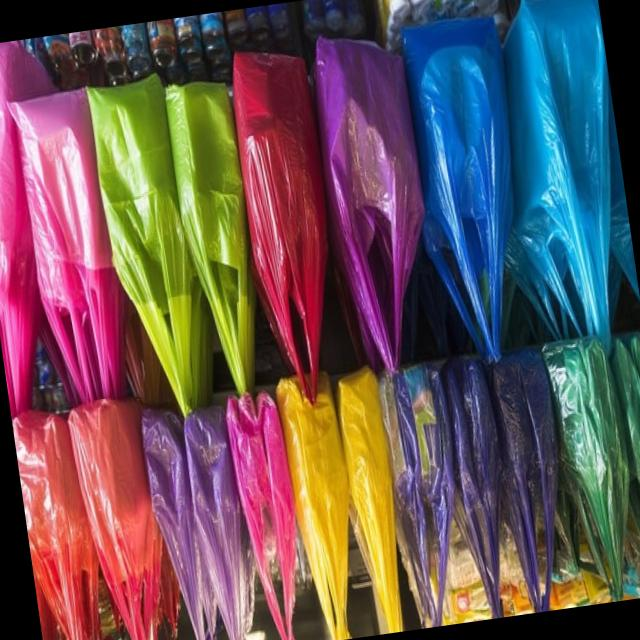plastic_bag: (67, 53, 202, 417), (492, 0, 623, 361), (393, 4, 522, 369), (303, 15, 431, 371), (0, 55, 124, 412), (221, 36, 333, 412), (162, 54, 263, 403), (530, 336, 640, 599), (60, 396, 170, 640), (370, 363, 458, 629), (486, 332, 565, 612), (274, 373, 355, 640), (330, 361, 404, 634), (178, 403, 263, 640)
